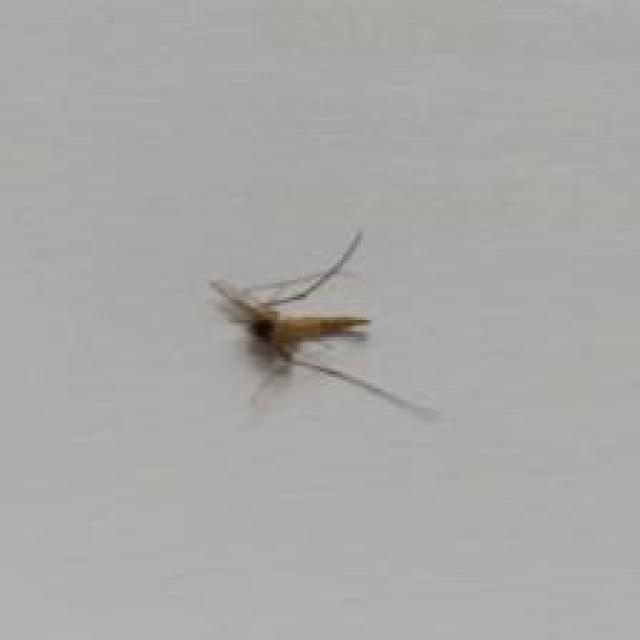Culex: (207, 227, 442, 424)
